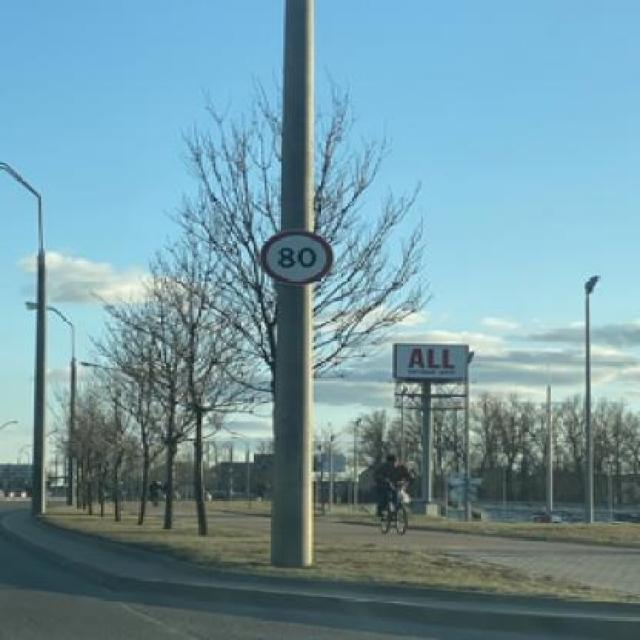forb_speed_over_80: (260, 229, 332, 283)
